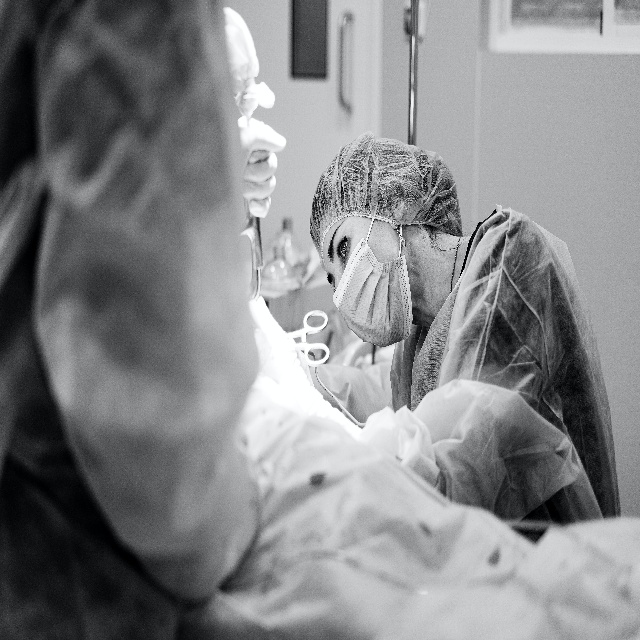Guantes: (239, 120, 288, 216)
Mascara: (335, 245, 413, 341)
